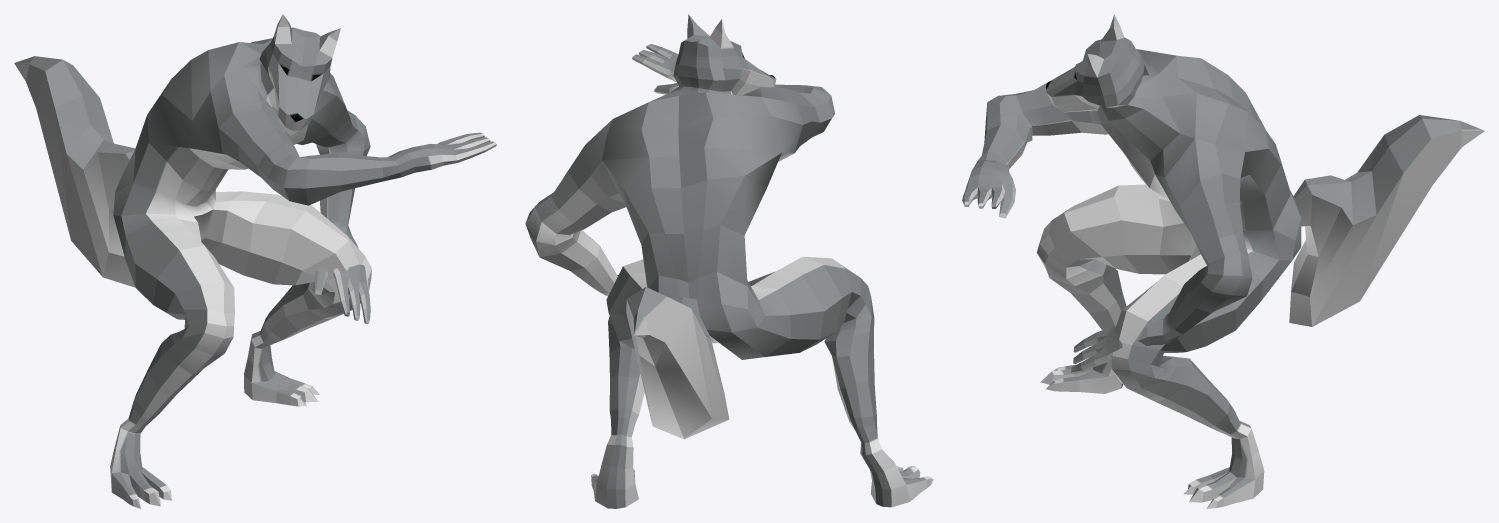
The model's file is WolfAttack(56).obj.
3 views of the same model, side by side, from view 1: azimuth 30°, elevation 25°; view 2: azimuth 150°, elevation 25°; view 3: azimuth 270°, elevation 25° (orthographic). The views are drawn at different scales.
Parts seen in each view (by area): view 1: Box001; view 2: Box001; view 3: Box001.
Part boxes in pixels (box(x1,y1,x2,y2)): Box001: box(14, 14, 496, 508); Box001: box(525, 14, 933, 508); Box001: box(962, 14, 1484, 508).
Bounding box in the file's own units: 90.16 × 117 × 121.
